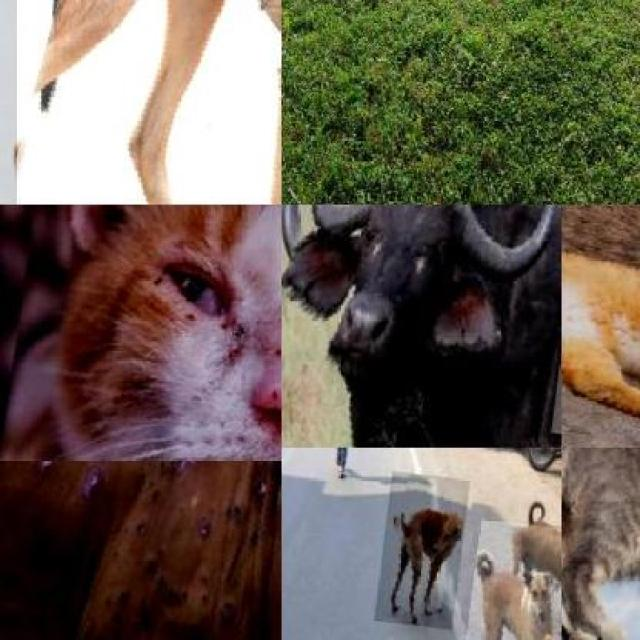buffalo: (282, 205, 562, 448)
cat: (0, 205, 282, 460), (561, 204, 640, 447)
cow: (0, 460, 282, 640)
dog: (17, 0, 281, 205), (373, 471, 470, 631), (458, 518, 562, 640), (516, 469, 562, 637)
injured: (89, 460, 274, 640), (0, 460, 63, 518)
